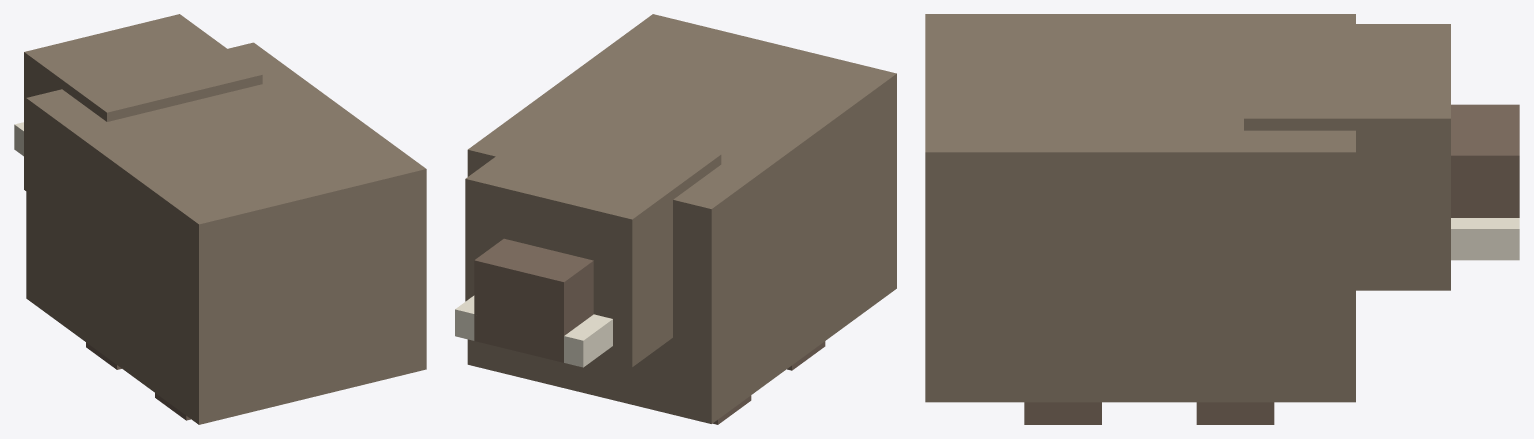
Rendered from voxel_boar.glb.
3 renders of one model, left to right at view 1: azimuth 30°, elevation 25°; view 2: azimuth 150°, elevation 25°; view 3: azimuth 270°, elevation 25°, orthographic. The views are drawn at different scales.
Parts seen in each view (by area): view 1: b_body, b_head; view 2: b_body, b_head, b_snout, b_tuskL, b_tuskR; view 3: b_body, b_head, b_snout, b_tuskR, b_leg.002, b_leg.003.
Boxes of the visible parts, x1,y1,x2,y2 form: b_body: [26, 42, 426, 424]; b_head: [24, 14, 262, 190]; b_body: [467, 14, 896, 423]; b_head: [465, 114, 721, 367]; b_snout: [474, 238, 593, 362]; b_tuskL: [564, 314, 612, 367]; b_tuskR: [455, 295, 474, 340]; b_body: [925, 14, 1355, 402]; b_head: [1244, 24, 1450, 290]; b_snout: [1451, 104, 1519, 217]; b_tuskR: [1451, 218, 1519, 260]; b_leg.002: [1196, 402, 1274, 424]; b_leg.003: [1024, 402, 1101, 424].
Bounding box in the file's own units: 0.76 × 0.77 × 1.38.
